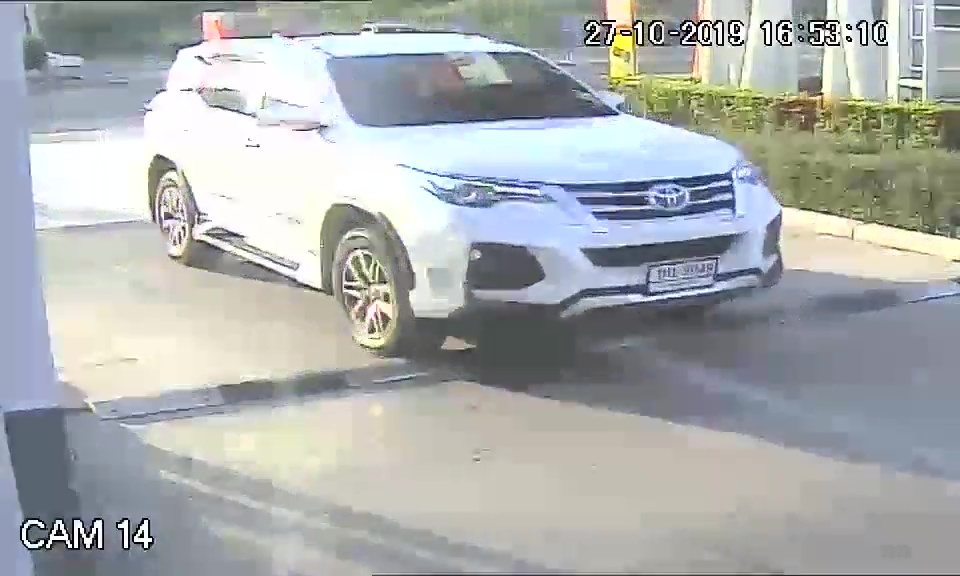pickup: (136, 28, 788, 357)
